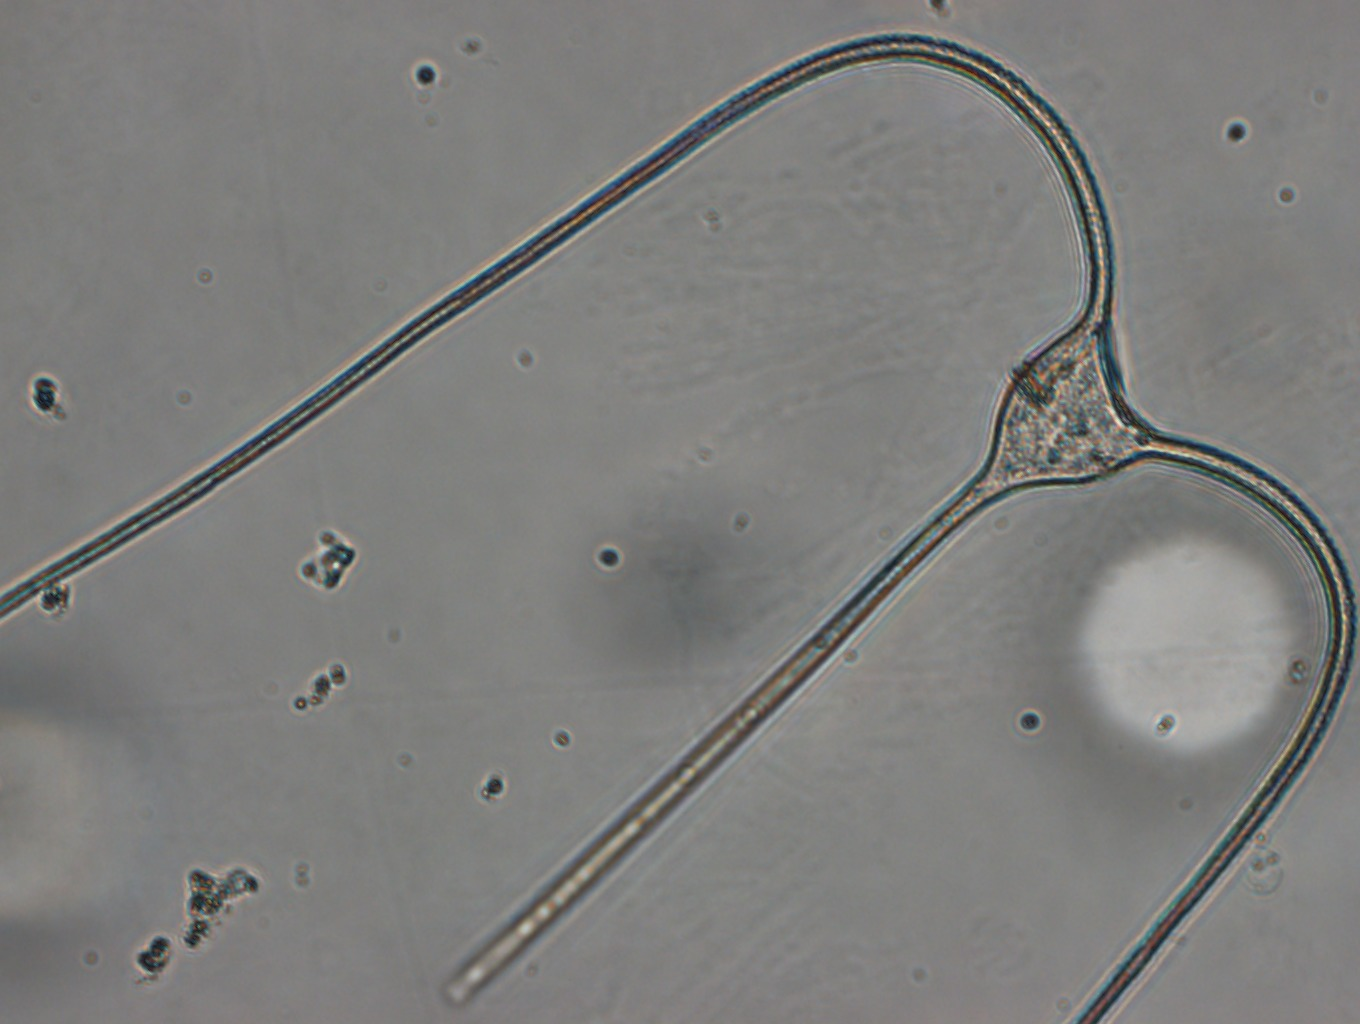ceratium trichoceros: (1, 31, 1360, 1024)
